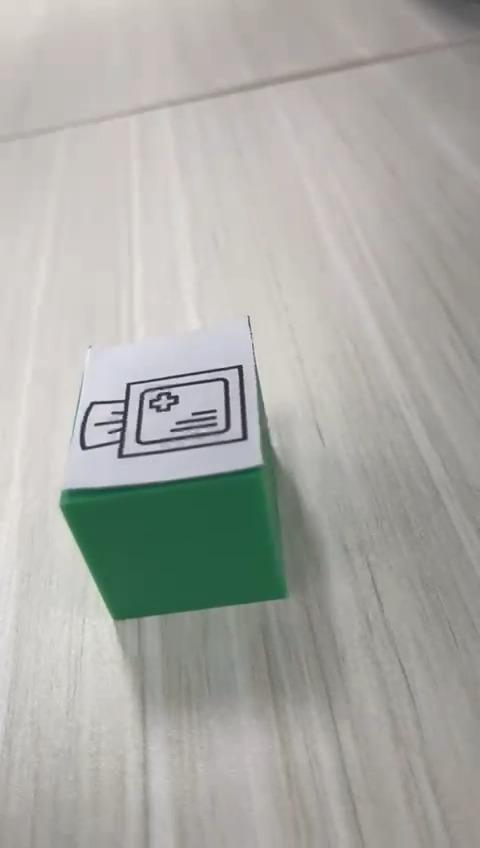Gauze: (58, 313, 289, 621)
